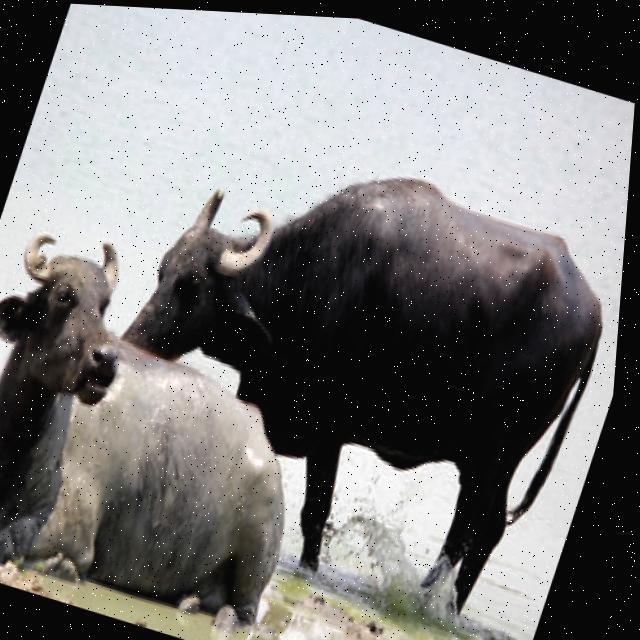Buffalo: (106, 95, 633, 477), (0, 206, 369, 631)
